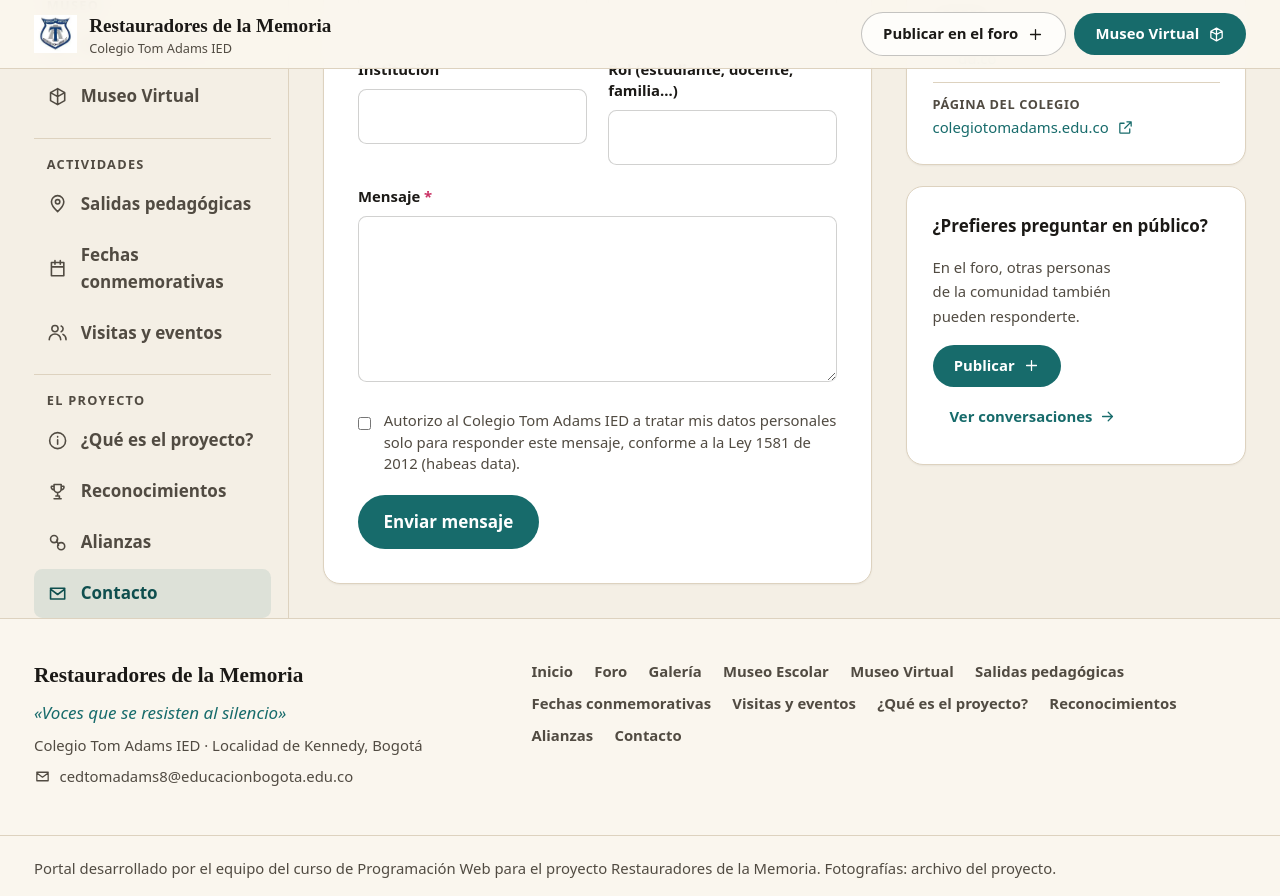
Scenario: Contacto › muestra los errores junto a cada campo y enfoca el primero
(page scrolled)
What coordinates should you click on to do the following:
click the button "Enviar mensaje"
I would click on:
 (448, 522)
Its box is [358, 496, 539, 549].
(page scrolled)
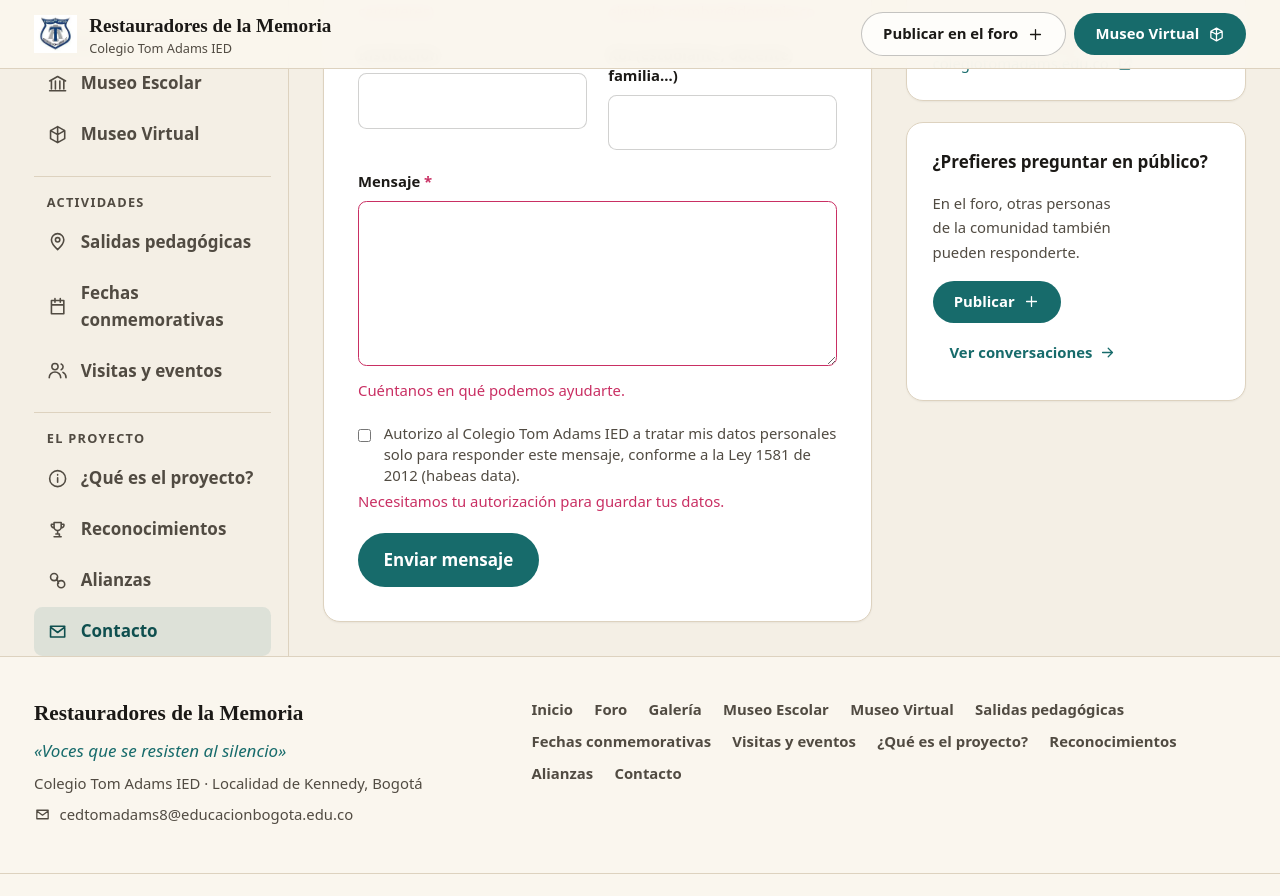
Expected: the text "Necesitamos tu autorización para guardar tus datos." is shown, [358, 491, 724, 511]
